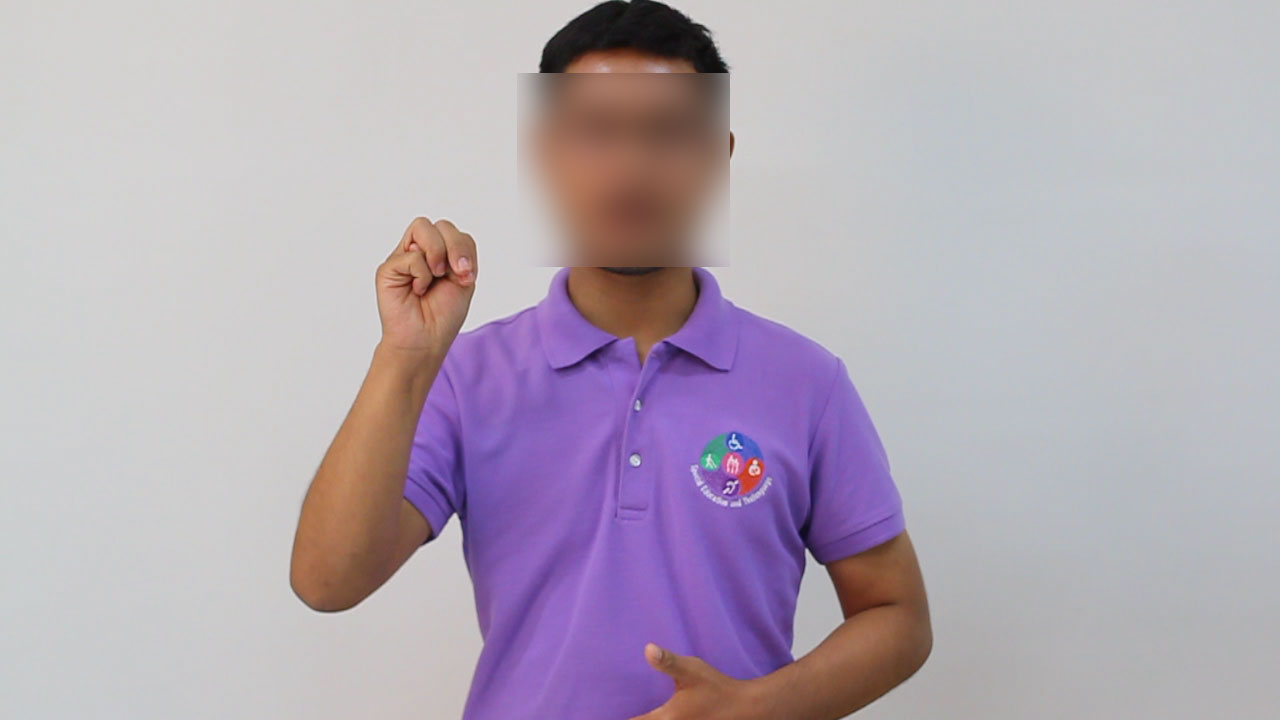mor: (373, 193, 484, 365)
